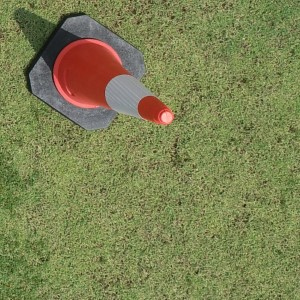traffic cone: (28, 15, 173, 130)
